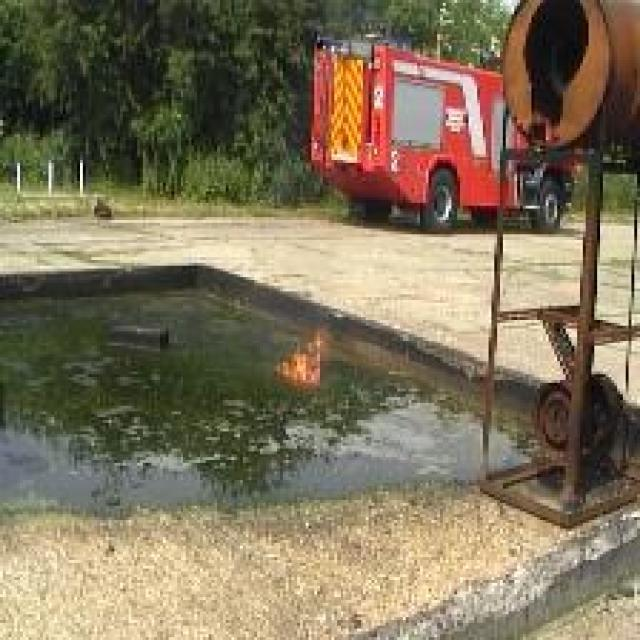Fire: (278, 330, 333, 384)
